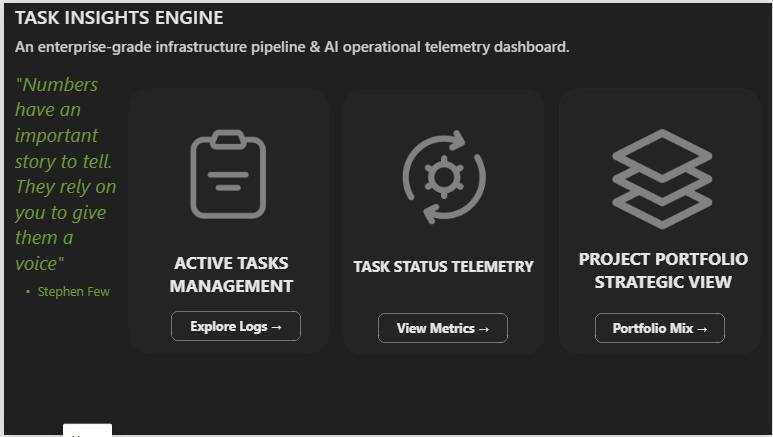

The dashboard page shown, as its layout file describes it:
{"tool":"powerbi","page":{"name":"Home","canvas":[1920,1080],"ordinal":0},"visuals":[{"type":"textbox","box":[27.5,0,1860,167.5],"z":2000},{"type":"shape","box":[308.8,212.5,504,664],"z":3000},{"type":"group","id":"g1","title":"Group 3","box":[847.5,215,504,664],"z":4000},{"type":"shape","box":[847.5,215,504,664],"z":4000,"group":"g1"},{"type":"shape","box":[1387.5,212.5,504,664],"z":5000},{"type":"image","box":[1501.2,313.8,286,250.5],"z":6000},{"type":"textbox","box":[325,619.1,486.5,145.6],"z":7000},{"type":"textbox","box":[1405,610,487.5,142.5],"z":8000},{"type":"image","box":[417.3,299.8,285.4,255.9],"z":9000},{"type":"textbox","box":[854,633,487.5,97.5],"z":10000,"group":"g1"},{"type":"actionButton","box":[417.5,770,325,75],"z":10000},{"type":"actionButton","box":[935,775,325,75],"z":11000},{"type":"actionButton","box":[1477.5,775,325,75],"z":12000},{"type":"textbox","box":[27.5,167.5,262.5,912.5],"z":12001},{"type":"image","box":[956.5,310.5,286,250.5],"z":14002,"group":"g1"}]}

Visuals, with their boxes in screenshot pixels (x1, y1, x2, y2), scaled from the page's 1920x1080 canvas onto the 773x437 screenshot:
textbox: [x1=11, y1=0, x2=760, y2=68]
shape: [x1=124, y1=86, x2=327, y2=355]
"Group 3" group: [x1=341, y1=87, x2=544, y2=356]
shape: [x1=341, y1=87, x2=544, y2=356]
shape: [x1=559, y1=86, x2=762, y2=355]
image: [x1=604, y1=127, x2=720, y2=228]
textbox: [x1=131, y1=251, x2=327, y2=309]
textbox: [x1=566, y1=247, x2=762, y2=304]
image: [x1=168, y1=121, x2=283, y2=225]
textbox: [x1=344, y1=256, x2=540, y2=296]
actionButton: [x1=168, y1=312, x2=299, y2=342]
actionButton: [x1=376, y1=314, x2=507, y2=344]
actionButton: [x1=595, y1=314, x2=726, y2=344]
textbox: [x1=11, y1=68, x2=117, y2=436]
image: [x1=385, y1=126, x2=500, y2=227]
